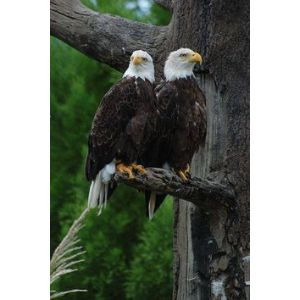eagle: (88, 41, 164, 206), (149, 40, 203, 216)
